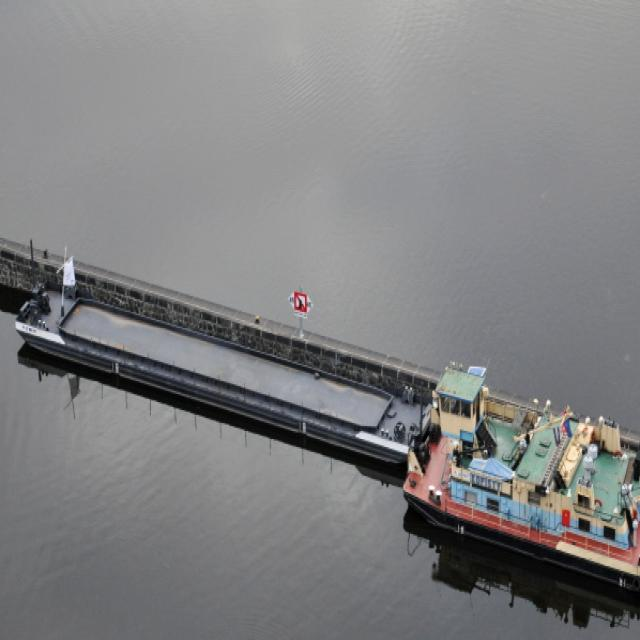tugboat: (400, 358, 640, 625)
